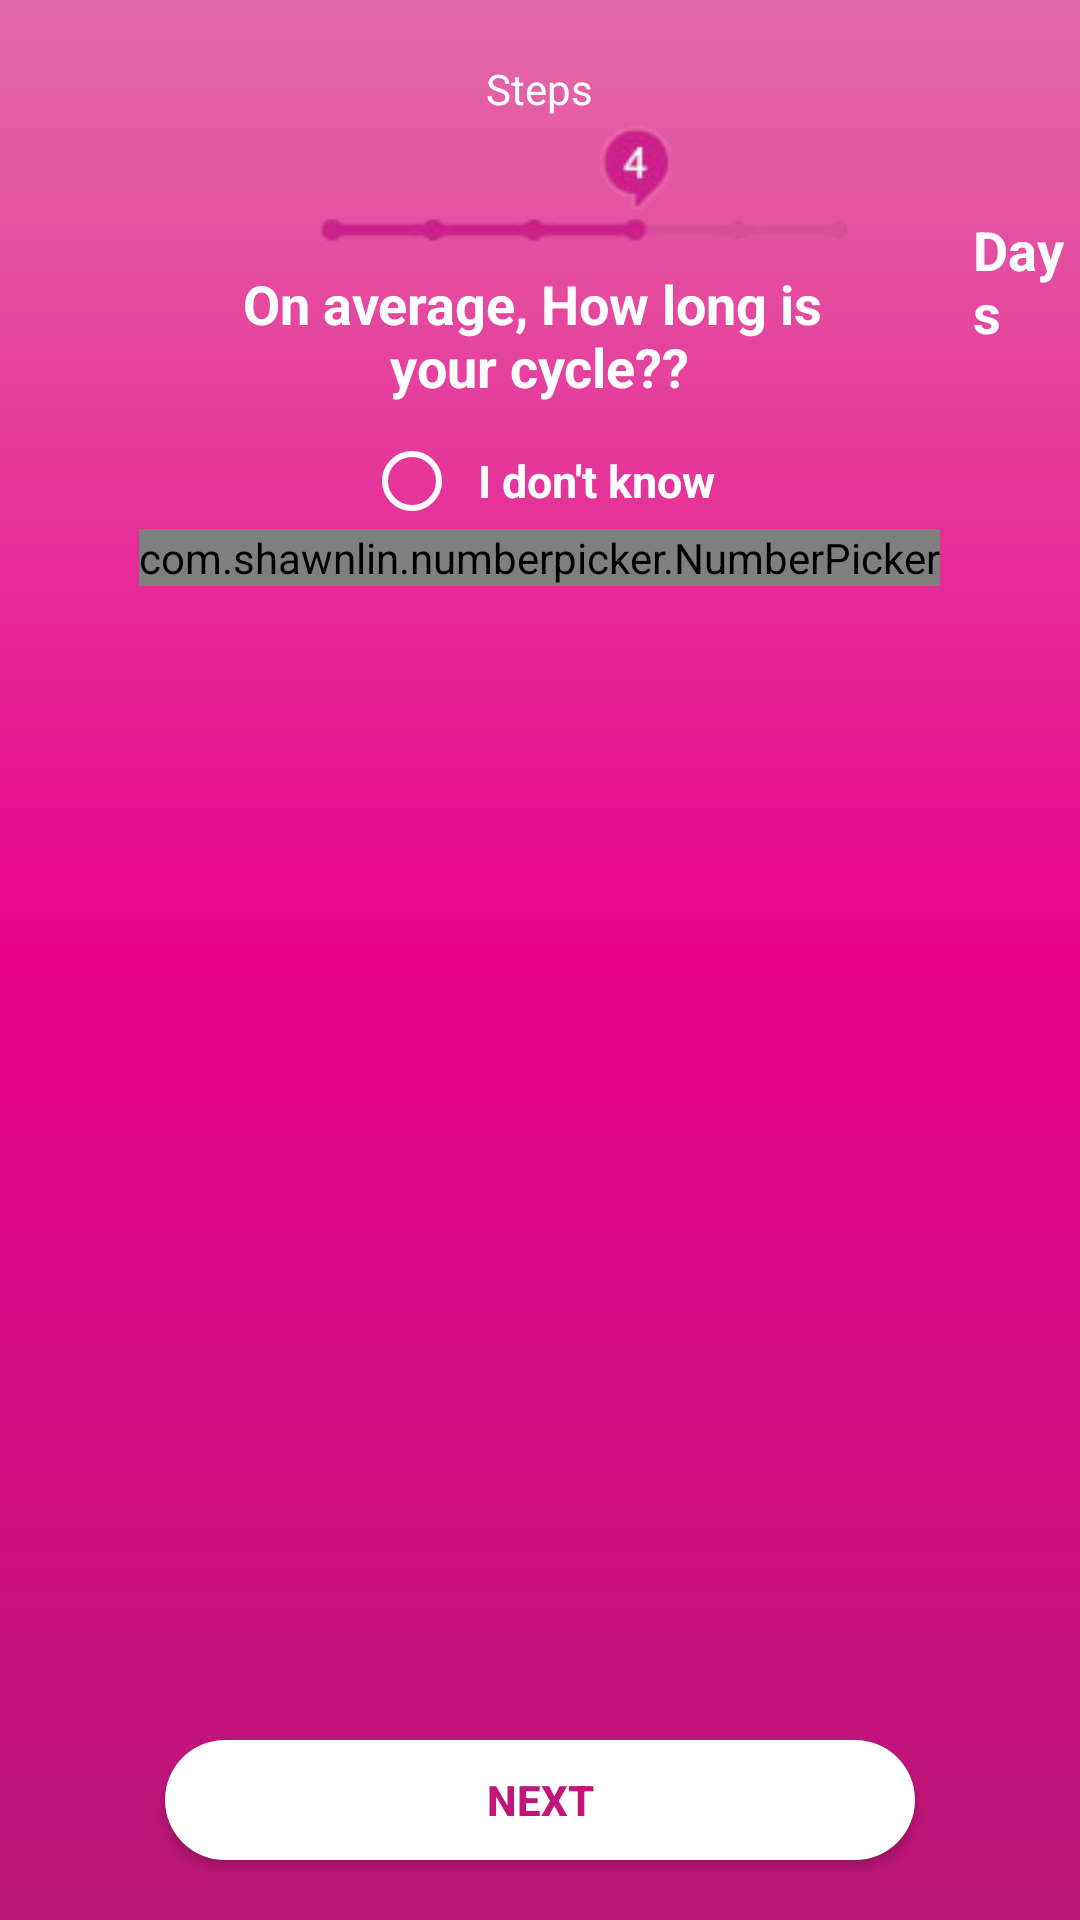

Icons on this 1080×1920 Android screen, each with the point to tap as (x=x, y=y):
progressfour: (x=494, y=185)
